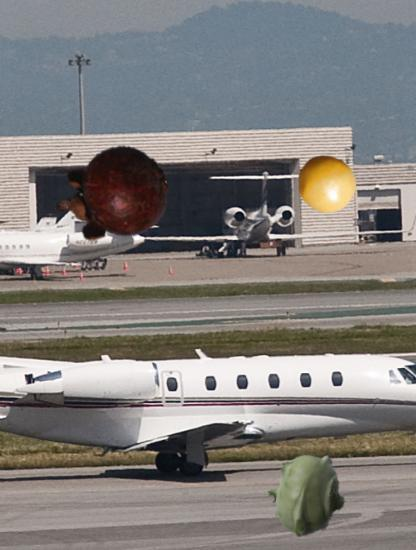Grapefruit: (297, 154, 357, 214)
Kohlrabi: (263, 451, 351, 539)
Mangostan: (54, 139, 169, 254)
